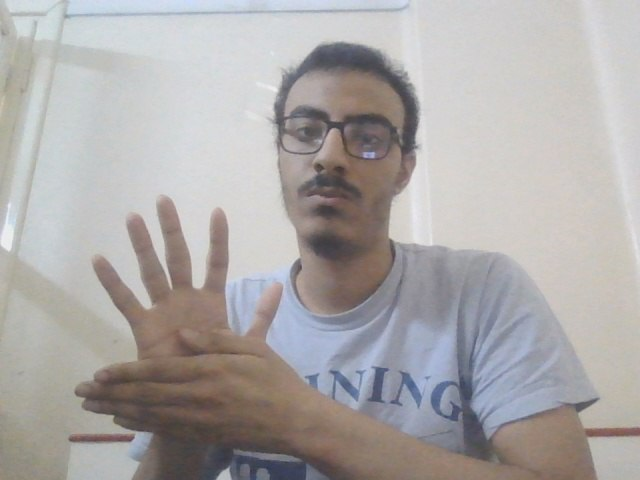Movie: (71, 193, 310, 462)
